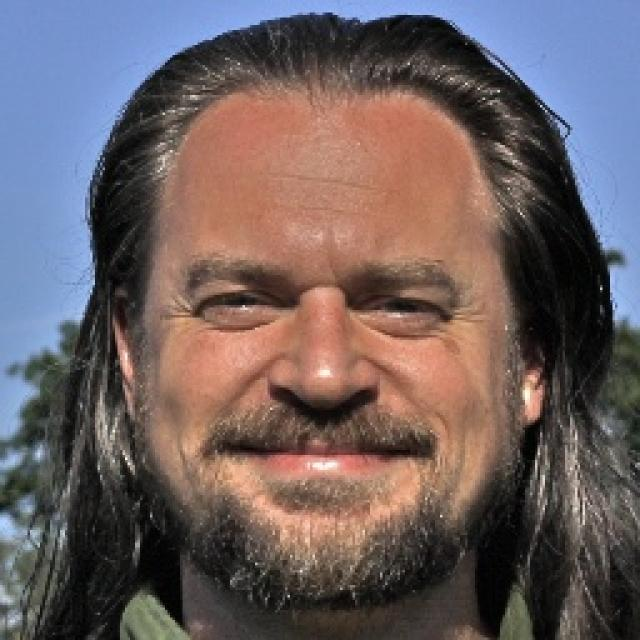earlobe: (511, 375, 546, 428), (121, 378, 146, 427)
eye: (358, 296, 446, 322), (199, 287, 278, 314)
nose: (268, 382, 382, 458)
wholeear: (108, 282, 145, 427)
